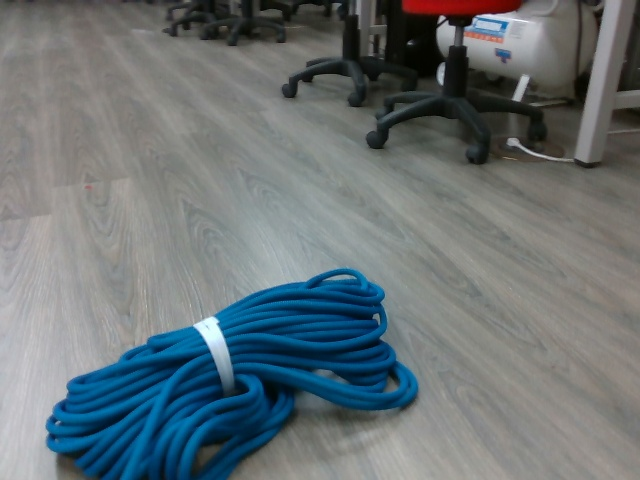rope: (40, 265, 420, 480)
